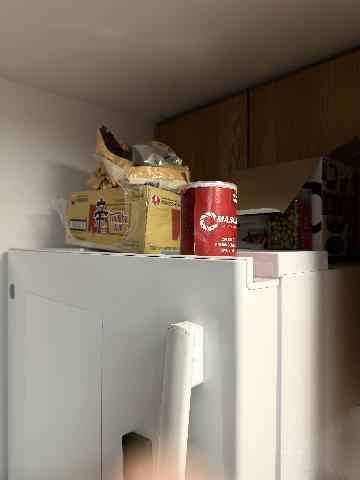Red Can: (180, 182, 237, 256)
